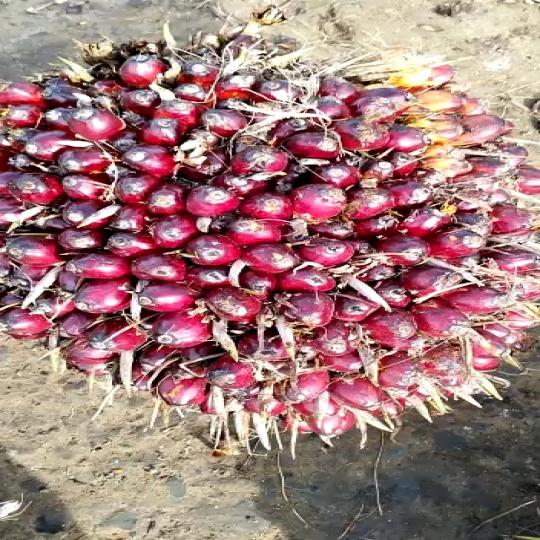kurang masak: (0, 24, 540, 454)
